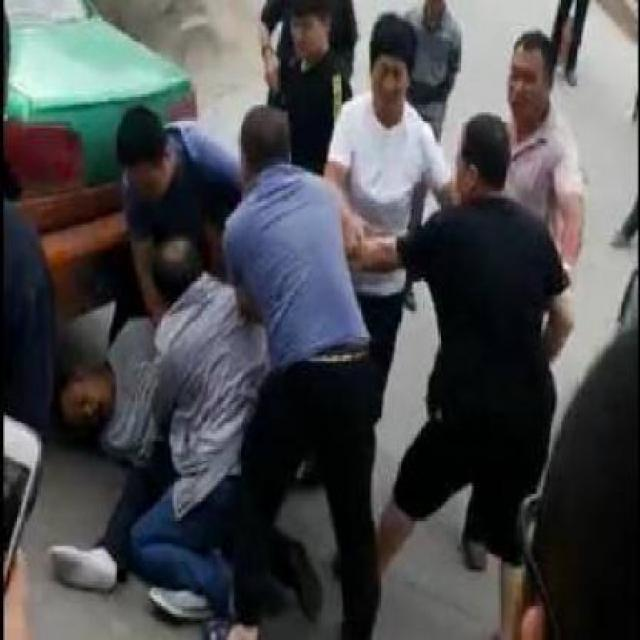fall: (49, 280, 258, 622)
